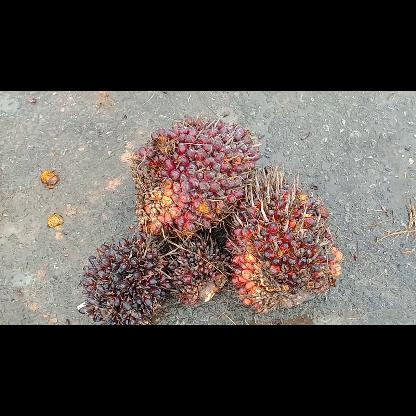TBS abnormal: (76, 233, 174, 324), (168, 235, 230, 304)
TBS masak: (224, 164, 344, 314), (128, 115, 262, 239)
